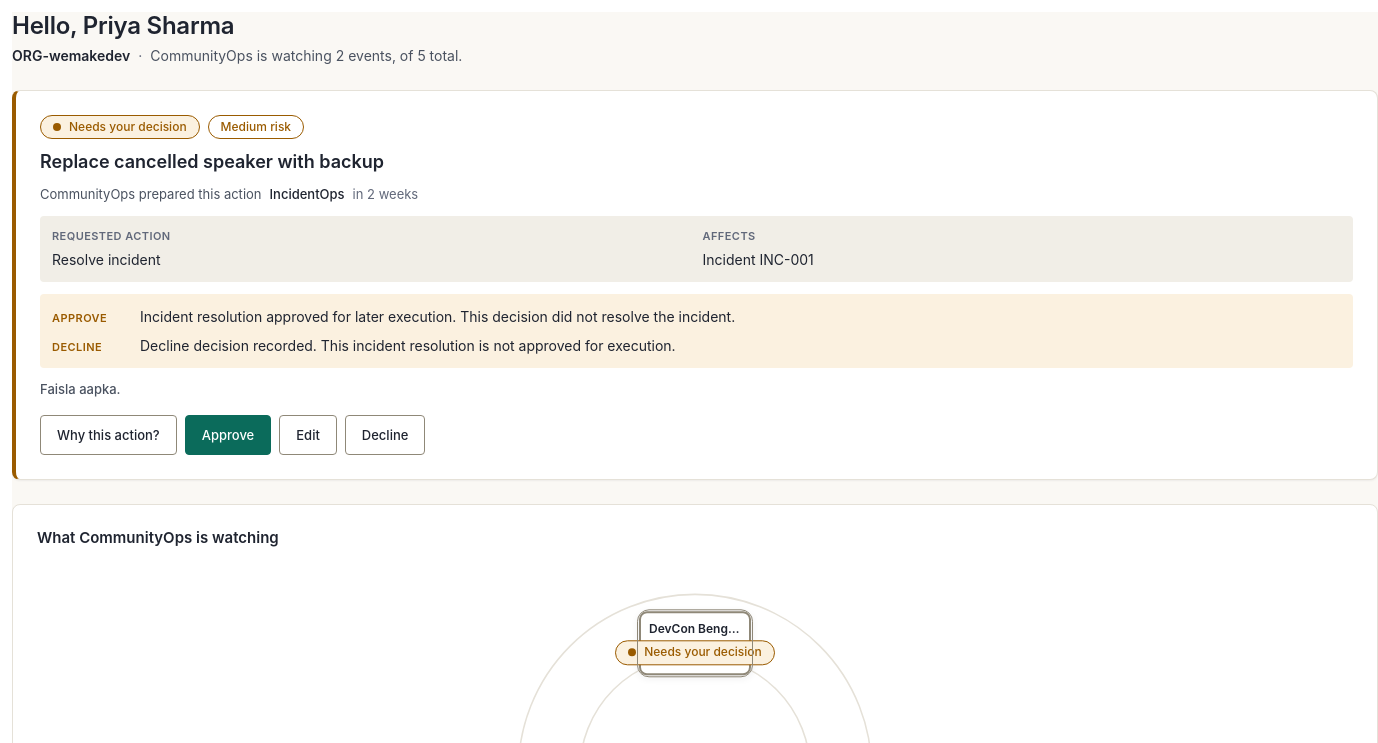
recording a decision (requirements 5.7, 13.11, 15.8, A9) › replaces the action row with the outcome and announces it
The width and height of the screenshot is (1378, 743).
Expected: the element "Needs your decision" is shown, 12,90 -> 1377,480
What coordinates should you click on to do the following:
click the button "Approve"
I would click on:
 (228, 435)
Its box is 185,415 -> 271,455.
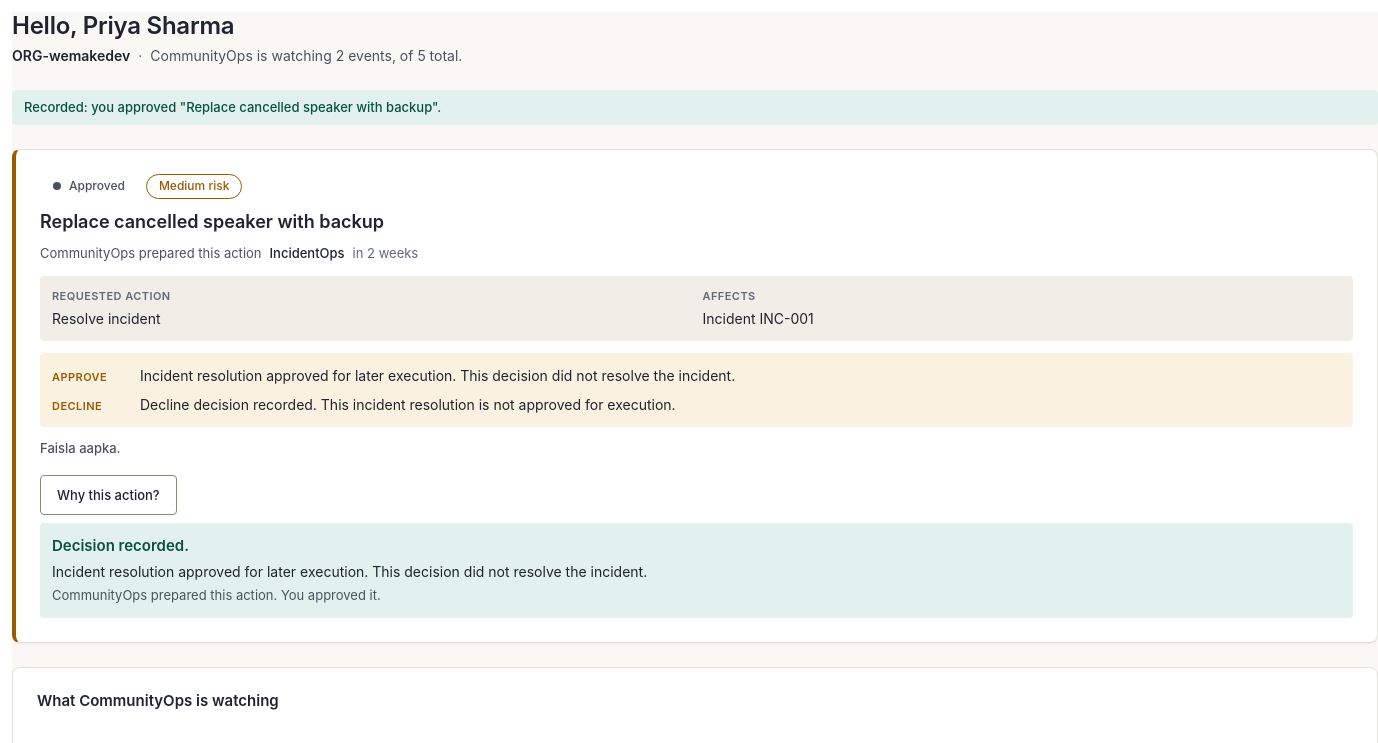
Result: the text "Decision recorded." is shown at 52,536 -> 189,555
Result: the message reads "Recorded: you approved \"Replace cancelled speaker with backup\"." at 24,99 -> 441,115
